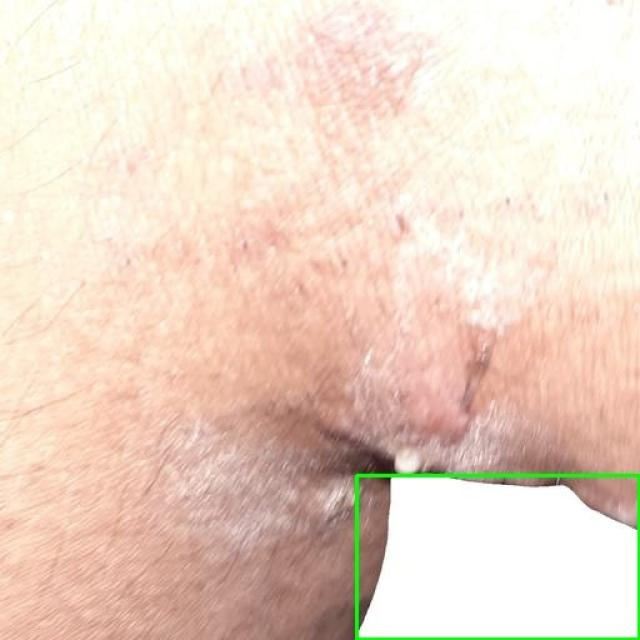Contact Dermatitis: (356, 475, 639, 639)
